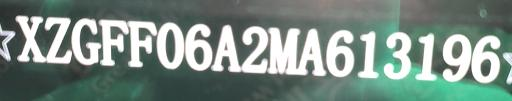letter: (468, 34, 504, 85), (11, 14, 47, 63), (266, 23, 300, 74), (438, 32, 470, 83), (70, 13, 100, 66), (382, 26, 412, 79), (97, 16, 129, 65), (212, 22, 240, 77), (183, 22, 213, 73), (324, 28, 354, 79), (44, 13, 72, 66), (125, 19, 155, 66), (240, 21, 266, 74), (355, 26, 381, 79), (157, 20, 183, 71), (414, 30, 436, 83), (300, 25, 322, 78)
